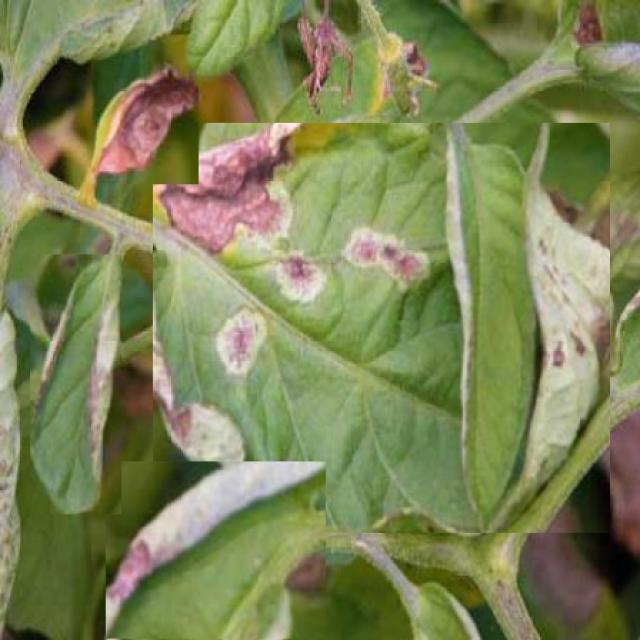Late Blight: (154, 123, 610, 533), (105, 462, 326, 639), (31, 255, 122, 514), (87, 64, 199, 184)
